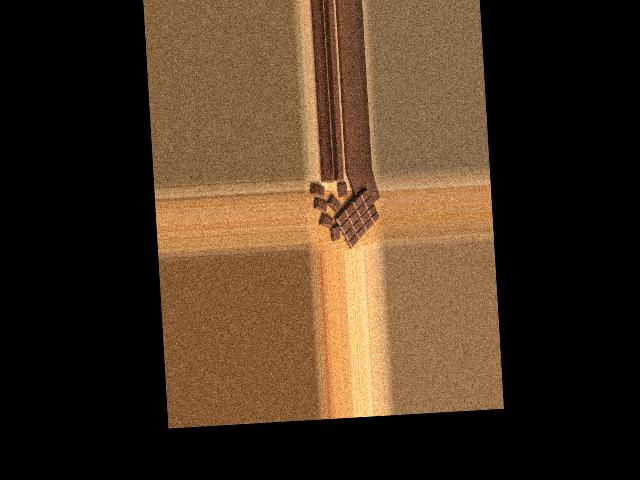chocolate: (330, 187, 381, 247)
